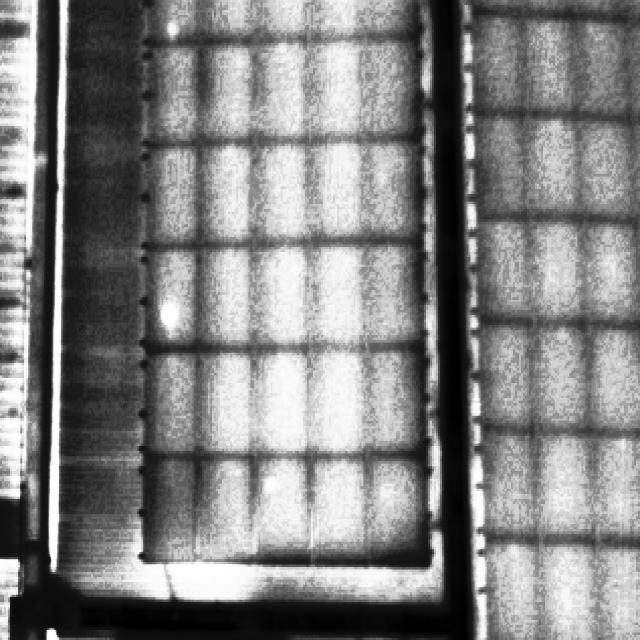Hotspots: (151, 296, 183, 331), (159, 20, 181, 38), (264, 472, 281, 493)
PV-modules: (478, 421, 539, 552), (195, 338, 261, 458), (469, 103, 534, 224), (251, 235, 317, 354), (473, 316, 538, 436), (528, 212, 595, 328), (307, 340, 373, 457), (307, 449, 373, 565), (141, 36, 205, 154), (531, 319, 595, 437), (368, 337, 431, 455), (364, 124, 426, 243), (368, 447, 431, 564), (477, 529, 543, 640), (254, 29, 314, 151), (537, 420, 595, 546), (195, 450, 258, 565), (251, 449, 313, 565), (474, 216, 538, 328), (253, 337, 312, 457), (308, 234, 369, 350), (196, 238, 258, 352), (581, 212, 640, 330), (313, 130, 372, 247), (524, 112, 585, 225), (523, 10, 583, 124), (254, 132, 315, 244), (541, 531, 603, 640), (198, 34, 256, 150), (578, 8, 637, 122), (369, 234, 425, 353), (144, 138, 203, 250), (582, 112, 640, 225), (365, 25, 424, 136), (585, 320, 640, 438), (199, 136, 255, 250), (144, 244, 201, 355), (311, 26, 368, 137), (587, 425, 640, 544), (472, 8, 530, 116), (143, 343, 199, 454), (143, 454, 199, 560), (593, 534, 640, 640), (141, 0, 207, 46), (254, 0, 316, 40), (200, 0, 261, 40), (312, 0, 368, 40), (117, 630, 188, 640), (182, 632, 240, 640), (483, 637, 549, 640)
